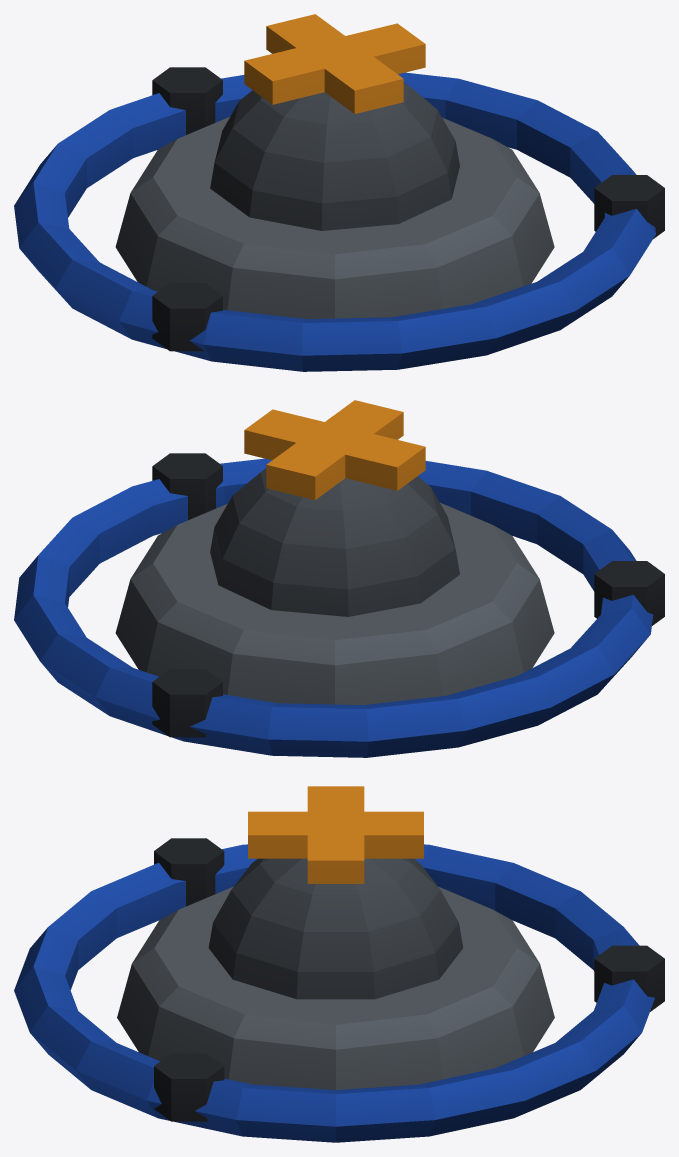
File: mender.glb
3 renders of one model, top to bottom at view 1: azimuth 30°, elevation 25°; view 2: azimuth 150°, elevation 25°; view 3: azimuth 270°, elevation 25°, orthographic.
Parts seen in each view (by area): view 1: hull; view 2: hull; view 3: hull.
Part boxes in pixels (x1=…): hull: x1=14, y1=14, x2=664, y2=371; hull: x1=14, y1=400, x2=664, y2=757; hull: x1=14, y1=786, x2=664, y2=1142.
Bounding box in the file's own units: 0.548 × 0.237 × 0.554.
